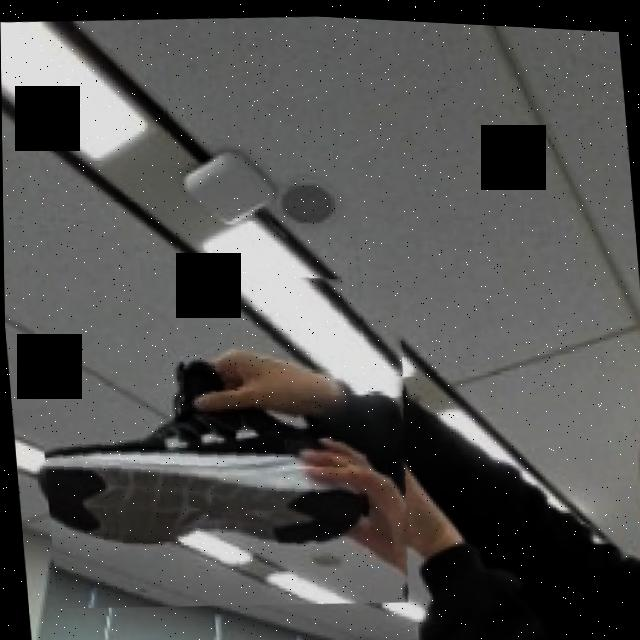shoe: (27, 241, 426, 623)
